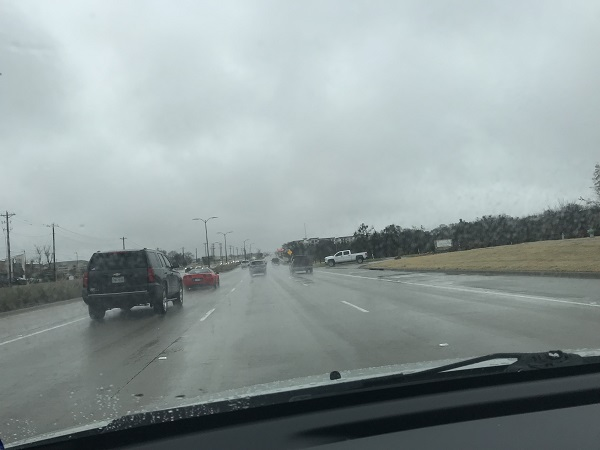car: (80, 251, 182, 311), (180, 264, 219, 286), (248, 260, 265, 276)
truck: (322, 251, 370, 265), (290, 254, 312, 271)
